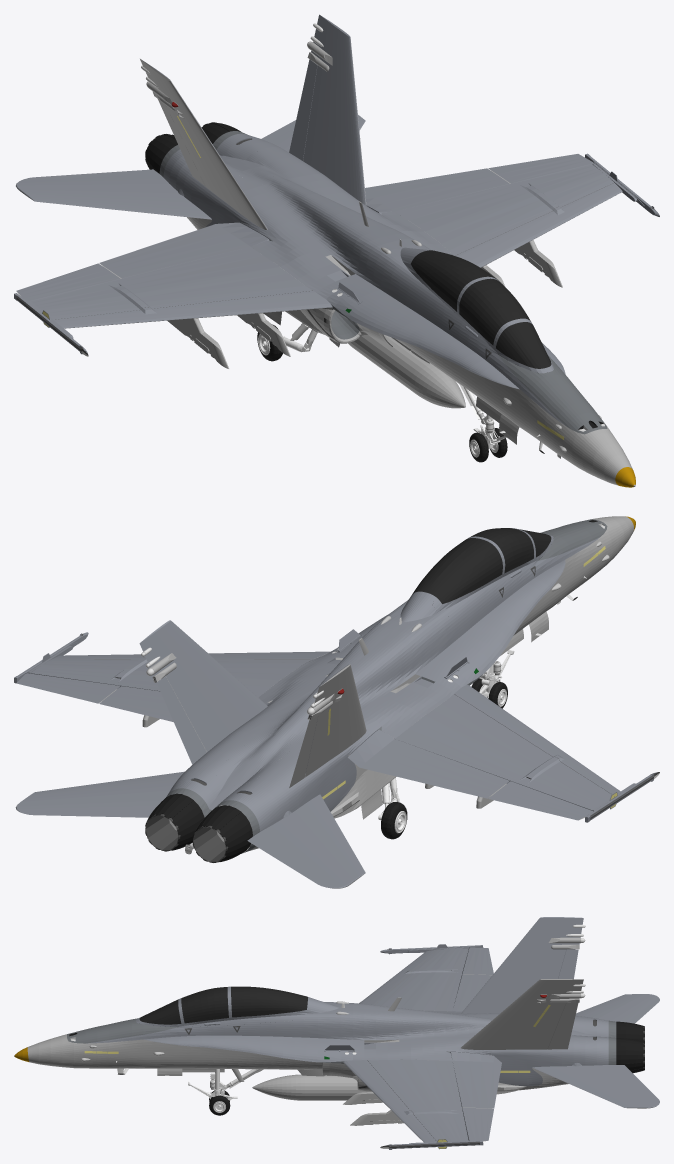
3 renders of one model, top to bottom at view 1: azimuth 30°, elevation 25°; view 2: azimuth 150°, elevation 25°; view 3: azimuth 270°, elevation 25°, orthographic. The views are drawn at different scales.
Visible parts, largest first — view 1: _C-upper fuselage 1/2#1 (Loose Mesh), _C-upper fuselage 1/2#1 (Loose Mesh).001, _C-wing core#1 (Loose Mesh), _C-wing core#1 (Loose Mesh).001, C-OBJ23, _C-Lowwer fuselage 1/2 (Loose Mesh), _C-Winscreen Frame (Loose Mesh), C-flap.001, C-leadingedge#1.001, C-flap, C-leadingedge#1, C-Nose (RP stowed) (+11 smaller); view 2: _C-upper fuselage 1/2#1 (Loose Mesh), _C-upper fuselage 1/2#1 (Loose Mesh).001, _C-wing core#1 (Loose Mesh), C-OBJ23, _C-Winscreen Frame (Loose Mesh), C-OBJ23.001, C-flap.001, _C-wing core#1 (Loose Mesh).001, _C-Lowwer fuselage 1/2 (Loose Mesh), C-leadingedge#1.001, C-aileron.001, C-aileron (+11 smaller); view 3: _C-upper fuselage 1/2#1 (Loose Mesh).001, _C-upper fuselage 1/2#1 (Loose Mesh), _C-Lowwer fuselage 1/2 (Loose Mesh).001, _C-wing core#1 (Loose Mesh).001, _C-Winscreen Frame (Loose Mesh).001, _C-wing core#1 (Loose Mesh), C-OBJ23.001, C-flap, C-leadingedge#1, C-fuel tank 1/4.003, C-OBJ23, C-OBJ2#1 (+12 smaller).
Boxes of the visible parts, x1,y1,x2,y2 form: _C-upper fuselage 1/2#1 (Loose Mesh): (140,59,596,434); _C-upper fuselage 1/2#1 (Loose Mesh).001: (212,14,607,429); _C-wing core#1 (Loose Mesh): (31,247,312,319); _C-wing core#1 (Loose Mesh).001: (395,164,614,255); C-OBJ23: (16,169,211,219); _C-Lowwer fuselage 1/2 (Loose Mesh): (187,217,572,463); _C-Winscreen Frame (Loose Mesh): (401,250,516,350); C-flap.001: (99,222,269,278); C-leadingedge#1.001: (53,291,332,328); C-flap: (365,168,509,214); C-leadingedge#1: (455,183,622,267); C-Nose (RP stowed): (497,354,602,429); _C-upper fuselage 1/2#1 (Loose Mesh): (211,520,607,853); _C-upper fuselage 1/2#1 (Loose Mesh).001: (139,519,596,817); _C-wing core#1 (Loose Mesh): (395,694,611,810); C-OBJ23: (247,794,365,888); _C-Winscreen Frame (Loose Mesh): (423,529,534,616); C-OBJ23.001: (15,771,184,817); C-flap.001: (348,729,509,798); _C-wing core#1 (Loose Mesh).001: (30,657,312,697); _C-Lowwer fuselage 1/2 (Loose Mesh): (244,534,608,852); C-leadingedge#1.001: (454,685,620,794); C-aileron.001: (488,781,592,820); C-aileron: (16,673,120,703); _C-upper fuselage 1/2#1 (Loose Mesh).001: (67,979,616,1086); _C-upper fuselage 1/2#1 (Loose Mesh): (67,917,616,1037); _C-Lowwer fuselage 1/2 (Loose Mesh).001: (79,1039,568,1094); _C-wing core#1 (Loose Mesh).001: (367,1059,468,1141); _C-Winscreen Frame (Loose Mesh).001: (180,989,314,1026); _C-wing core#1 (Loose Mesh): (375,948,468,1011); C-OBJ23.001: (532,1063,659,1107); C-flap: (450,1052,501,1108); C-leadingedge#1: (343,1060,436,1142); C-fuel tank 1/4.003: (252,1075,372,1093); C-OBJ23: (575,994,659,1023); C-OBJ2#1: (27,1034,79,1068).
Size of the model in its own units: 12.3 by 4.79 by 17.07.
Materials: 18 (1 with a texture image).
